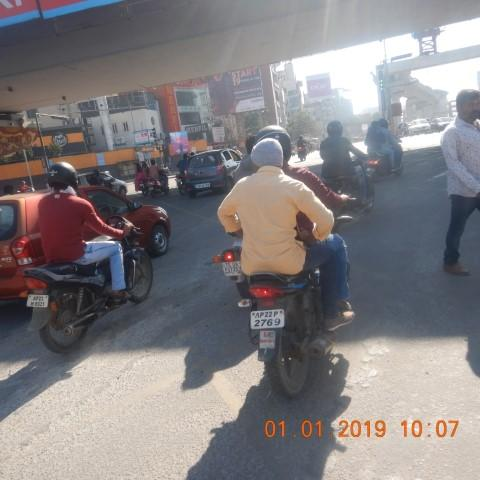plate: (252, 309, 284, 329), (27, 295, 49, 307)
